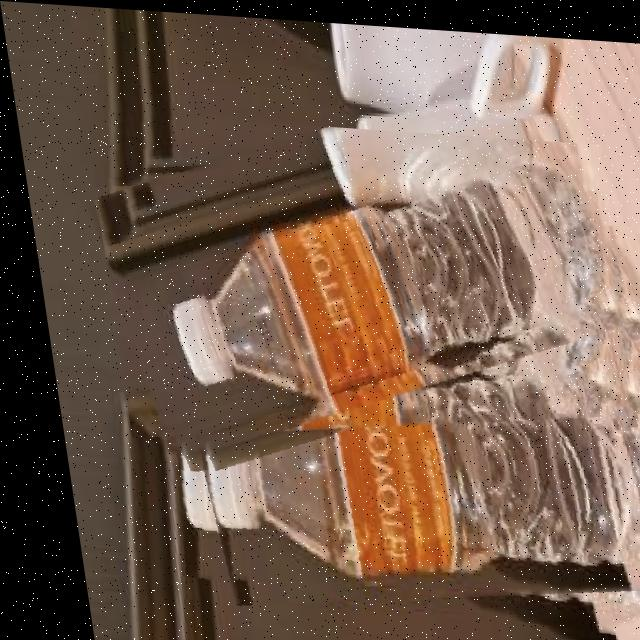litter: (131, 192, 640, 627), (80, 109, 638, 465), (129, 220, 254, 403), (155, 420, 265, 580)
